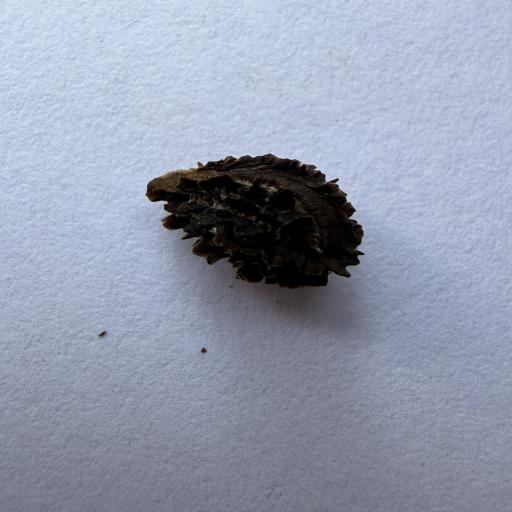papaya_seed: (100, 107, 395, 317)
